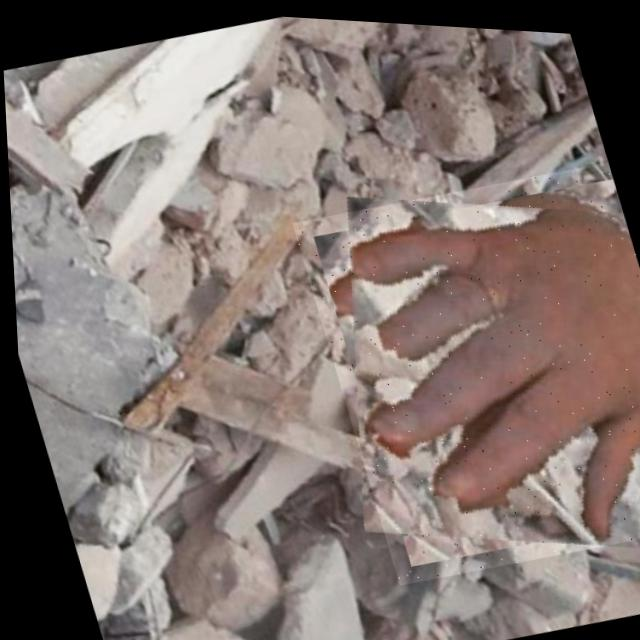Person in Rubble: (285, 139, 640, 593)
